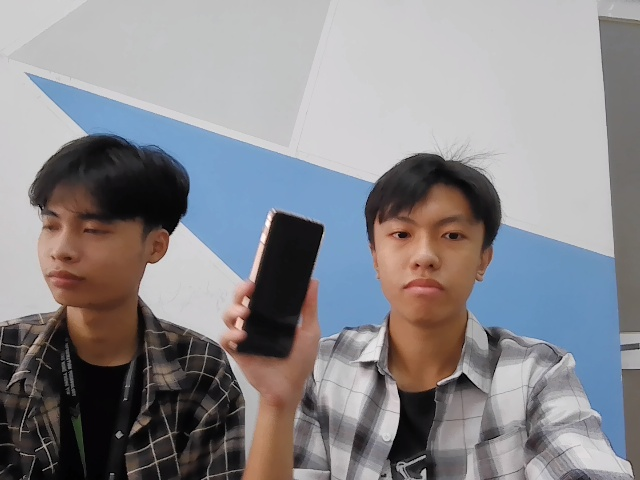human: (31, 135, 190, 312), (364, 154, 502, 318)
phone: (231, 199, 329, 361)
